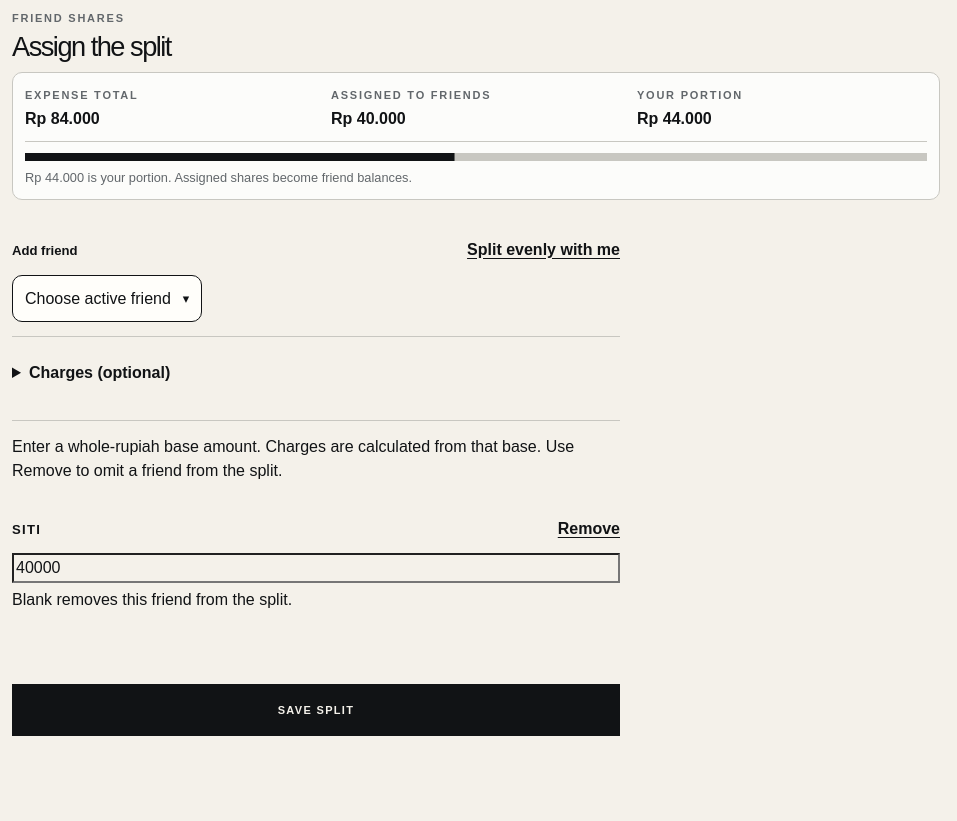
Test: expense share editor › replaces the previous undo token and does not duplicate a re-added friend
The image size is (957, 821).
Click the button with aria-label "Remove Siti" at (589, 529), box [558,511,620,547]
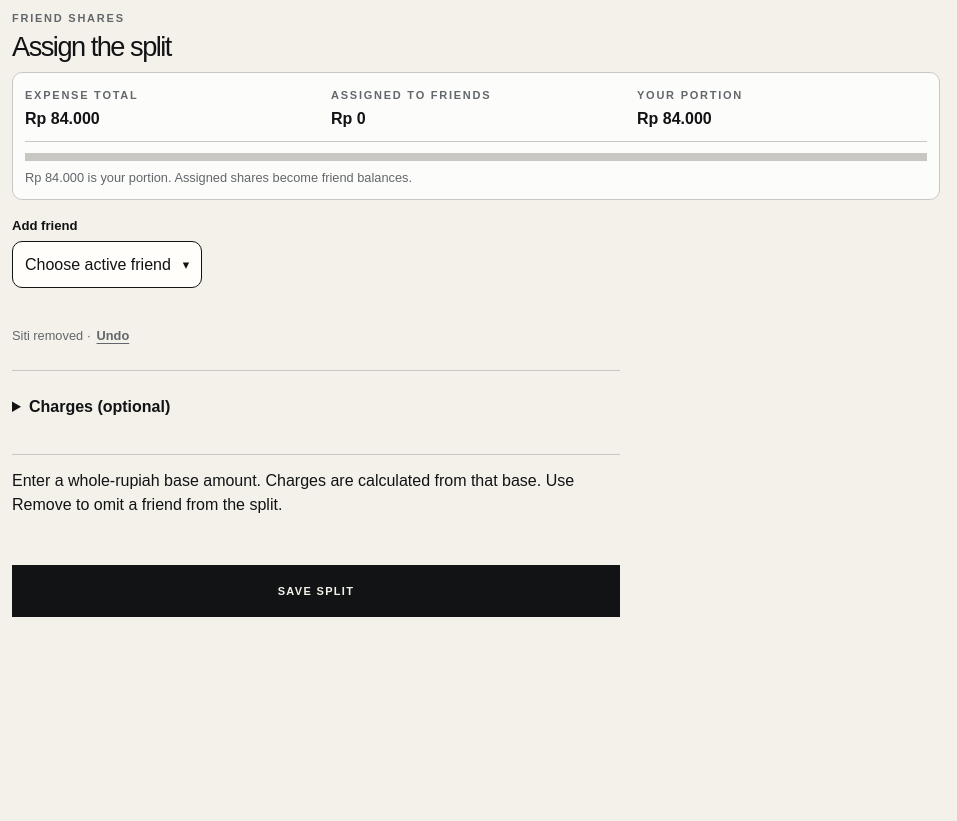
Expected: the button "Undo" is shown, [96,316,129,356]
Click the dropdown named "Add friend" at (107, 265), box [12,241,202,288]
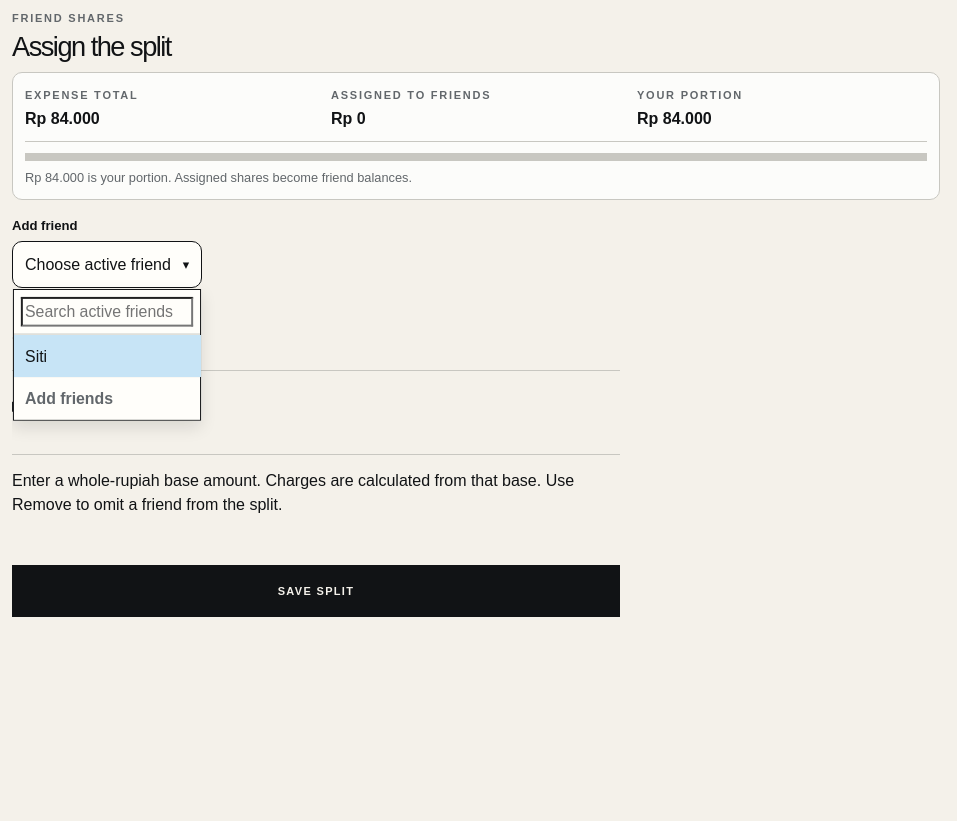
Expected: the option "Siti" is shown
Click the option "Siti" at (107, 356), box [14,335,200,378]
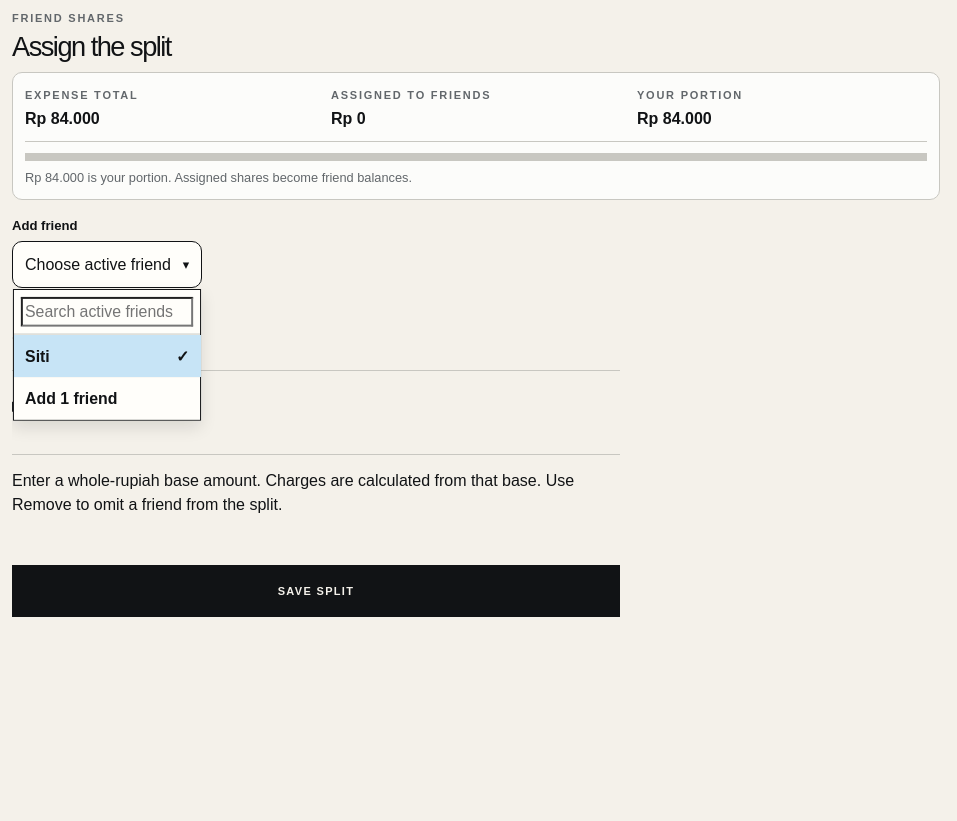
Click the button "Add 1 friend" at (107, 398), box [14,376,200,420]
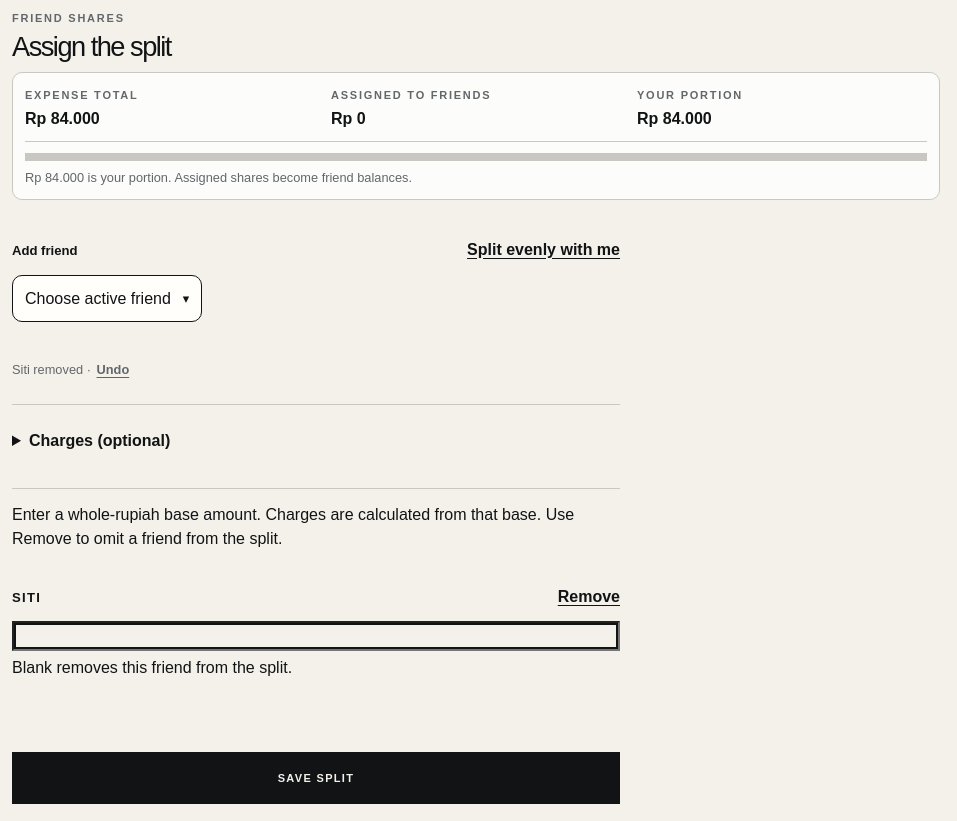
Expected: the field labelled "Siti" is empty, [12,621,620,651]
Click the button with aria-label "Remove Siti" at (589, 597), box [558,579,620,615]
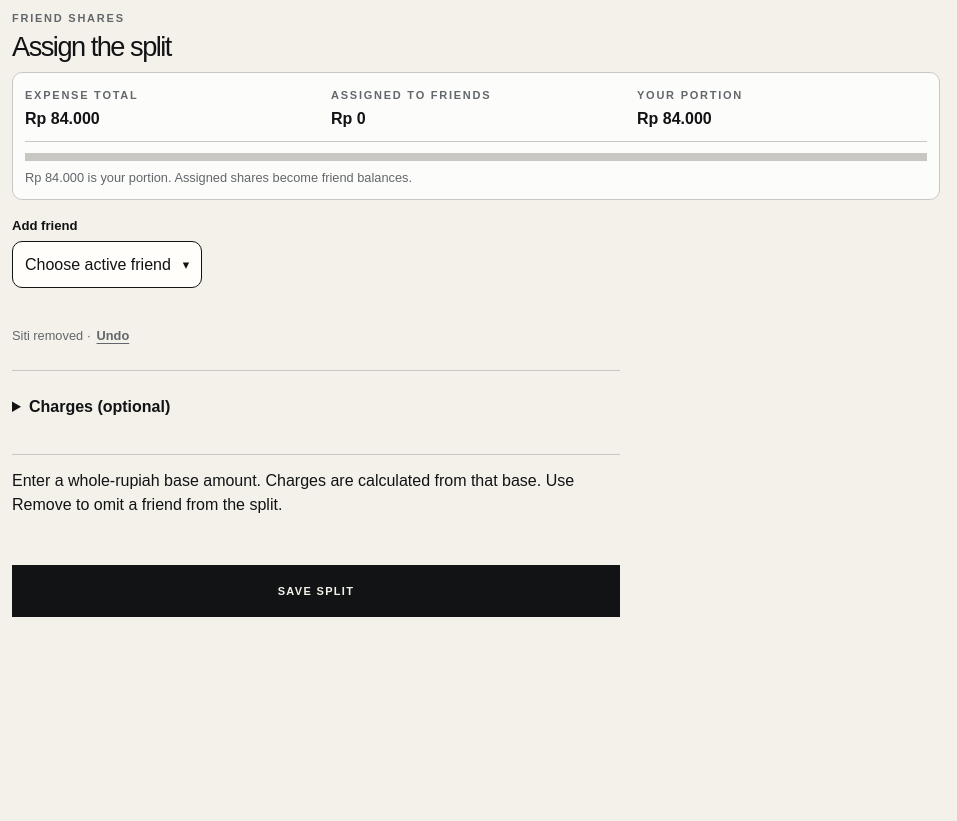
Expected: the text "Siti removed ·" is shown, [12,326,91,346]
Click the button "Undo" at (113, 336), box [96,316,129,356]
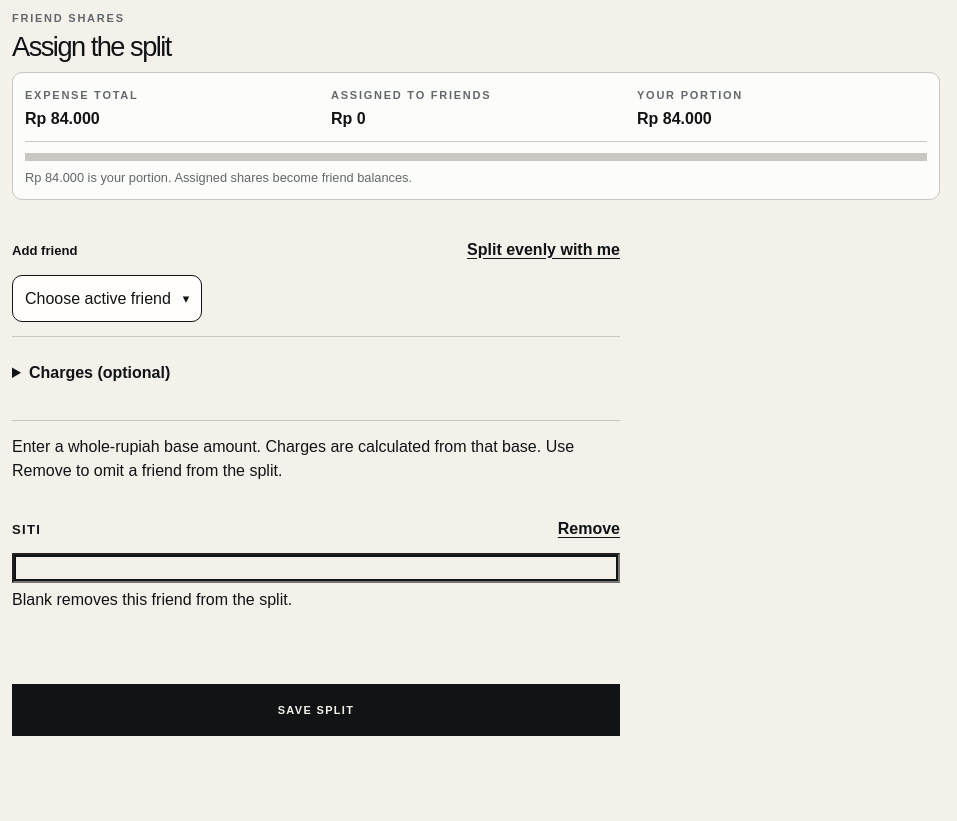
Expected: the number of fields labelled "Siti" is 1, [12,553,620,583]
